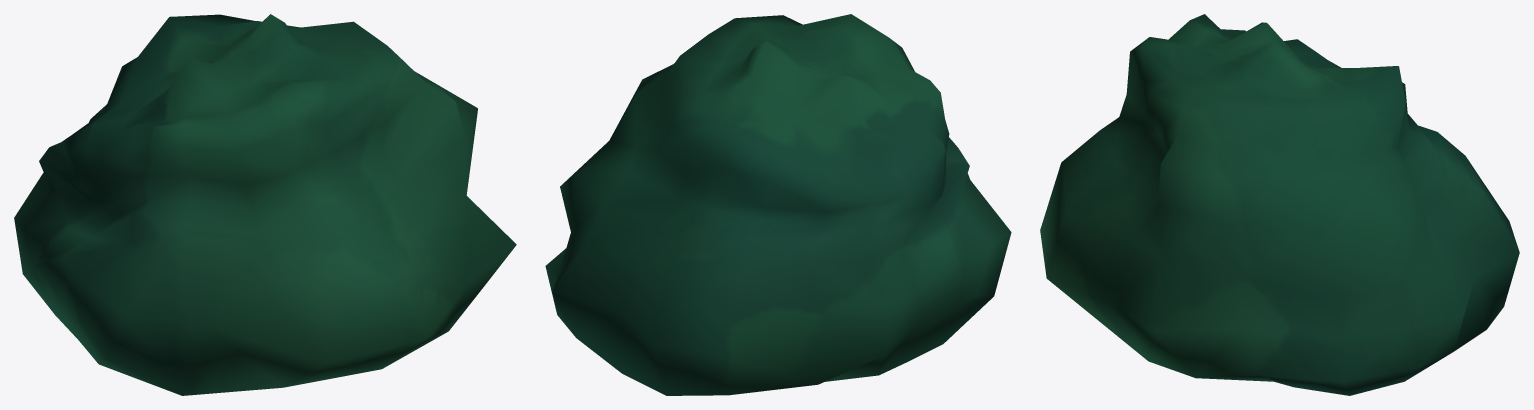
The model's file is Blueberry_Bush.fbx.
3 renders of one model, left to right at view 1: azimuth 30°, elevation 25°; view 2: azimuth 150°, elevation 25°; view 3: azimuth 270°, elevation 25°, orthographic. The views are drawn at different scales.
Parts seen in each view (by area): view 1: Blueberry Bush; view 2: Blueberry Bush; view 3: Blueberry Bush.
Boxes of the visible parts, <box> form: Blueberry Bush: <box>14,14,516,395</box>; Blueberry Bush: <box>545,14,1011,395</box>; Blueberry Bush: <box>1040,14,1519,395</box>.
Size of the model in its own units: 202 by 142 by 210.
1 material, 1 textured.
